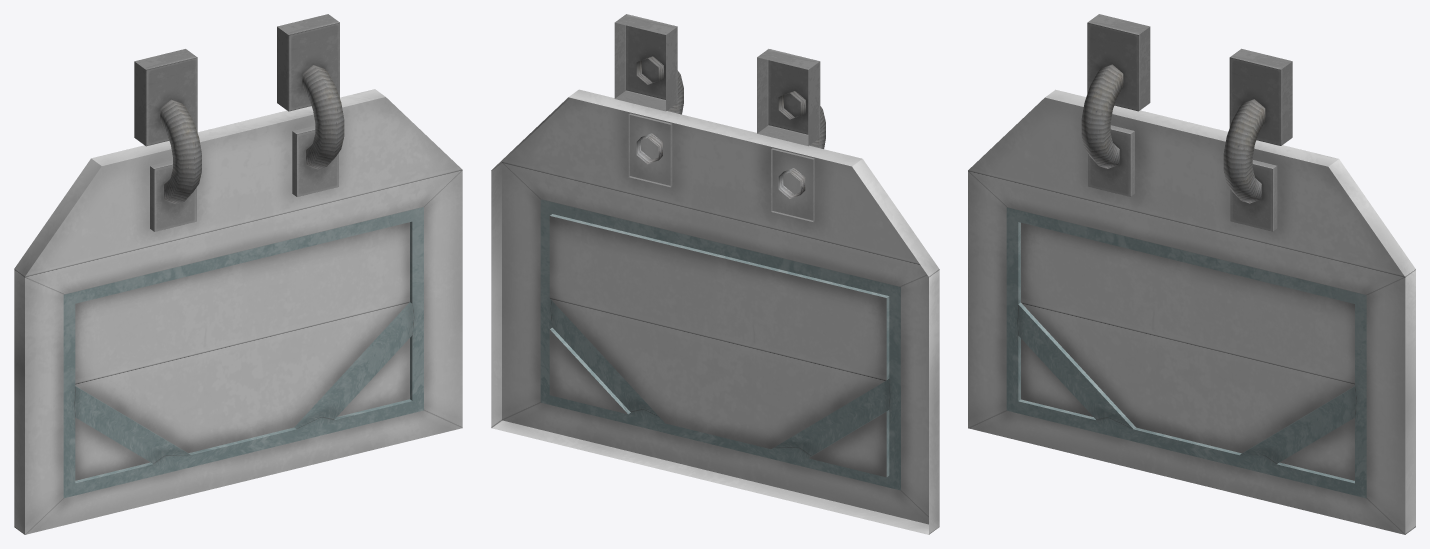
File: lid.FBX
The picture shows the model from 3 angles, left to right: view 1: azimuth 30°, elevation 25°; view 2: azimuth 150°, elevation 25°; view 3: azimuth 330°, elevation 25°; orthographic projection.
Parts seen in each view (by area): view 1: lid; view 2: lid; view 3: lid.
Boxes of the visible parts, x1,y1,x2,y2 form: lid: [14, 14, 462, 534]; lid: [491, 14, 939, 534]; lid: [968, 14, 1415, 534].
Bounding box in the file's own units: 89 × 84.72 × 12.43.
